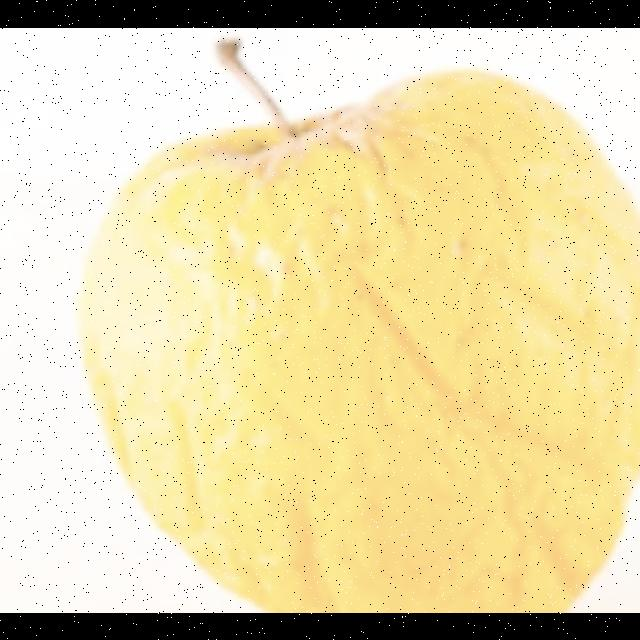Apel Tidak Segar: (66, 58, 640, 612)
